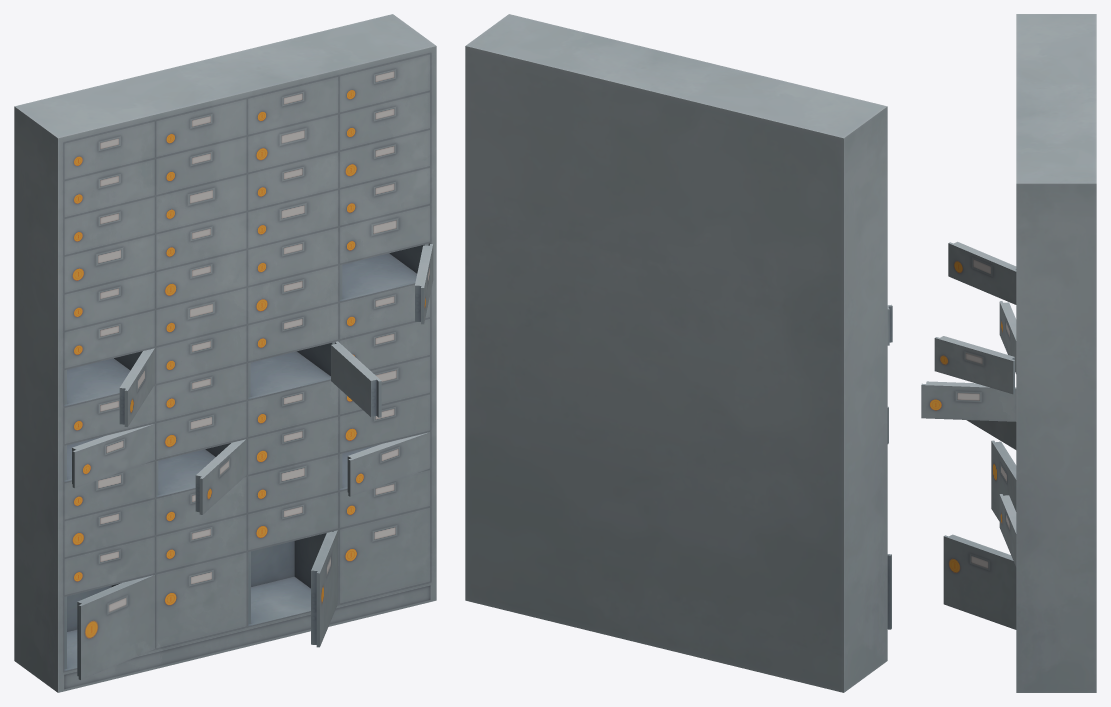
File: BankDepositBoxes01_2.FBX
3 views of the same model, side by side, from view 1: azimuth 30°, elevation 25°; view 2: azimuth 150°, elevation 25°; view 3: azimuth 270°, elevation 25° (orthographic). The views are drawn at different scales.
Visible parts, largest first — view 1: BankDepositBoxes01_2; view 2: BankDepositBoxes01_2; view 3: BankDepositBoxes01_2.
Part boxes in pixels (x1=…): BankDepositBoxes01_2: x1=14, y1=14, x2=436, y2=692; BankDepositBoxes01_2: x1=465, y1=14, x2=892, y2=692; BankDepositBoxes01_2: x1=921, y1=14, x2=1096, y2=692.
Size of what is drawn, in the model's own units: 2 by 2.8 by 0.872.
